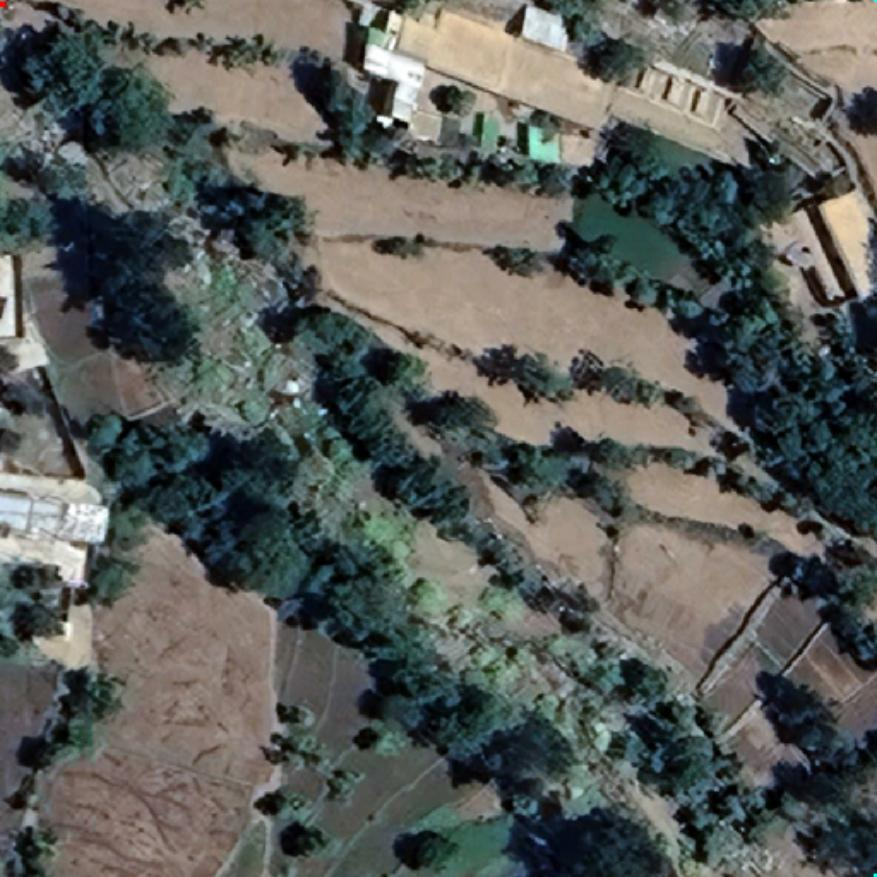Solarpanel: (0, 295, 10, 321)
